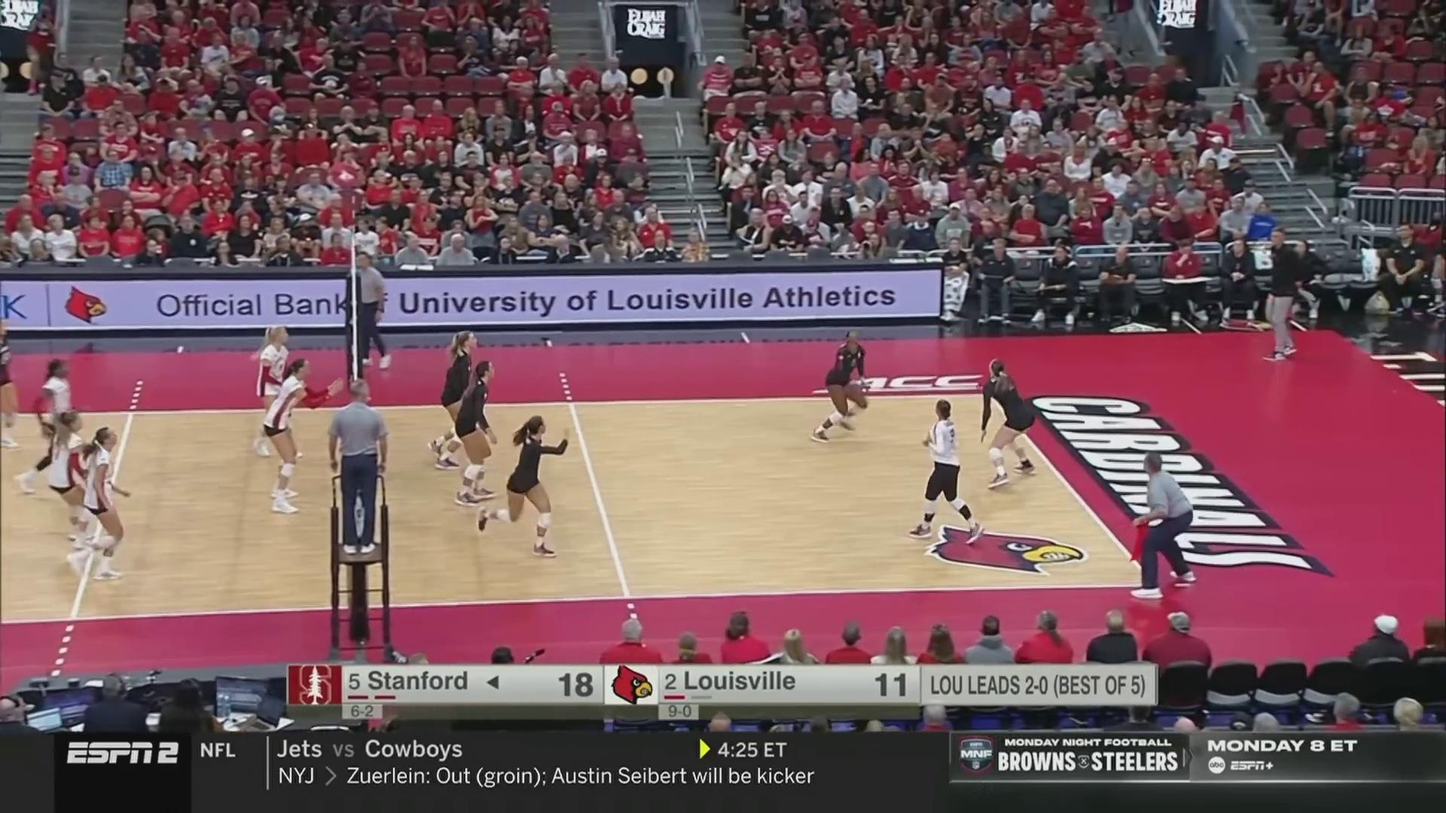player: (479, 416, 572, 555), (914, 398, 986, 541), (270, 359, 334, 510), (69, 427, 130, 580), (20, 358, 88, 495), (981, 359, 1038, 484), (53, 410, 101, 550), (430, 330, 478, 470), (453, 359, 498, 506), (812, 328, 870, 439), (257, 324, 304, 460), (0, 318, 24, 449)
refree: (327, 380, 392, 554), (1131, 452, 1195, 595), (349, 252, 386, 367)
